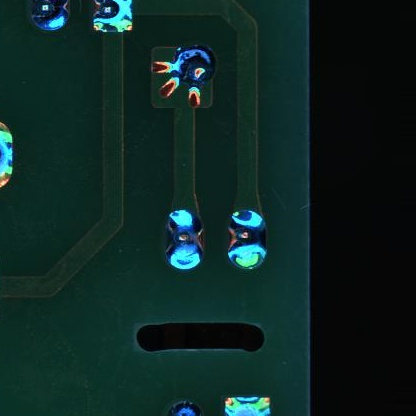spot: (153, 44, 216, 107), (161, 208, 205, 271), (226, 210, 268, 272), (91, 1, 134, 35), (28, 1, 71, 32)
